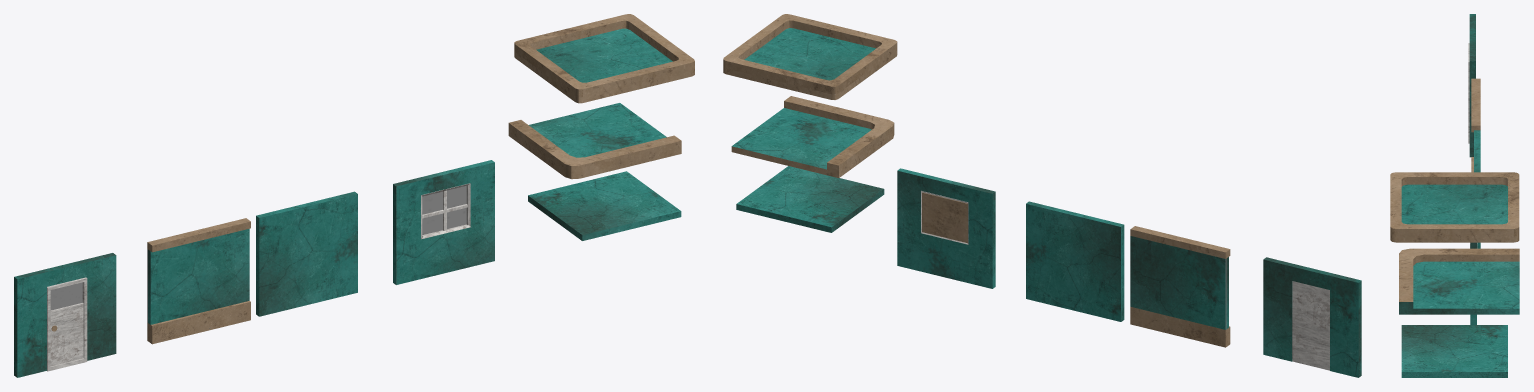
Rendered from restaurants.fbx.
3 renders of one model, left to right at view 1: azimuth 30°, elevation 25°; view 2: azimuth 150°, elevation 25°; view 3: azimuth 270°, elevation 25°, orthographic. The views are drawn at different scales.
Visible parts, largest first — view 1: polySurface25, polySurface1, polySurface24, polySurface2, polySurface14, polySurface12, polySurface4, polySurface23, polySurface7, polySurface3; view 2: polySurface25, polySurface1, polySurface24, polySurface14, polySurface2, polySurface12, polySurface4, polySurface23, polySurface7; view 3: polySurface24, polySurface14, polySurface4, polySurface12, polySurface25, polySurface1, polySurface23, polySurface2.
Boxes of the visible parts, x1,y1,x2,y2 form: polySurface25: [147, 218, 250, 344]; polySurface1: [256, 191, 357, 316]; polySurface24: [514, 14, 694, 103]; polySurface2: [393, 160, 494, 284]; polySurface14: [508, 103, 681, 179]; polySurface12: [14, 253, 116, 377]; polySurface4: [528, 171, 681, 240]; polySurface23: [47, 277, 87, 371]; polySurface7: [422, 186, 466, 234]; polySurface3: [421, 183, 470, 239]; polySurface25: [1130, 226, 1230, 347]; polySurface1: [1026, 201, 1124, 321]; polySurface24: [723, 14, 897, 99]; polySurface14: [731, 96, 894, 178]; polySurface2: [897, 168, 995, 288]; polySurface12: [1263, 257, 1361, 377]; polySurface4: [736, 166, 884, 232]; polySurface23: [1292, 281, 1329, 370]; polySurface7: [922, 192, 967, 243]; polySurface24: [1390, 172, 1519, 242]; polySurface14: [1399, 248, 1519, 314]; polySurface4: [1401, 325, 1507, 377]; polySurface12: [1469, 14, 1475, 157]; polySurface25: [1471, 78, 1480, 172]; polySurface1: [1474, 130, 1480, 248]; polySurface23: [1468, 43, 1469, 143]; polySurface2: [1470, 242, 1476, 324].
Bounding box in the file's own units: 12.74 × 3.63 × 2.28.
